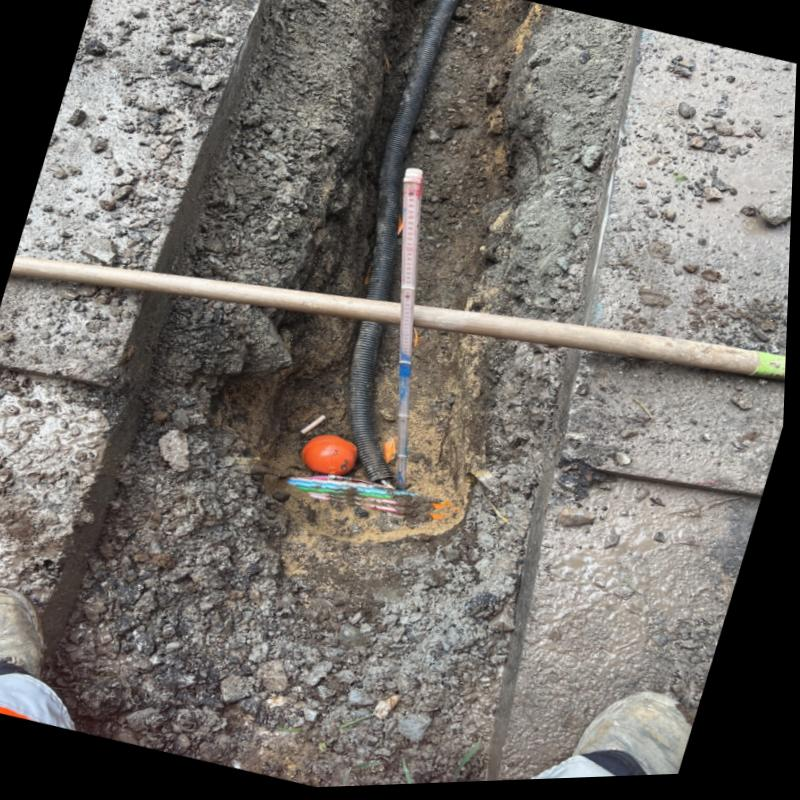Kugelmarker: (305, 437, 362, 475)
Orang-Speednetrohrchen: (293, 478, 459, 514)
